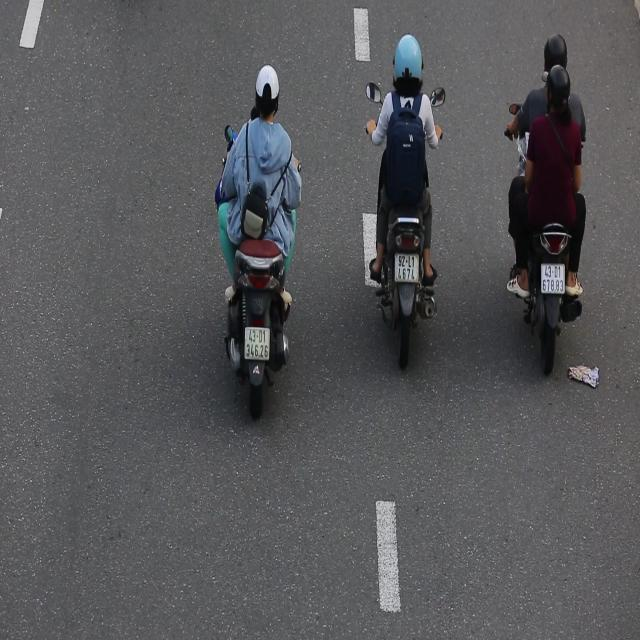motorbike: (360, 12, 458, 396), (495, 27, 591, 410), (215, 63, 303, 432)
